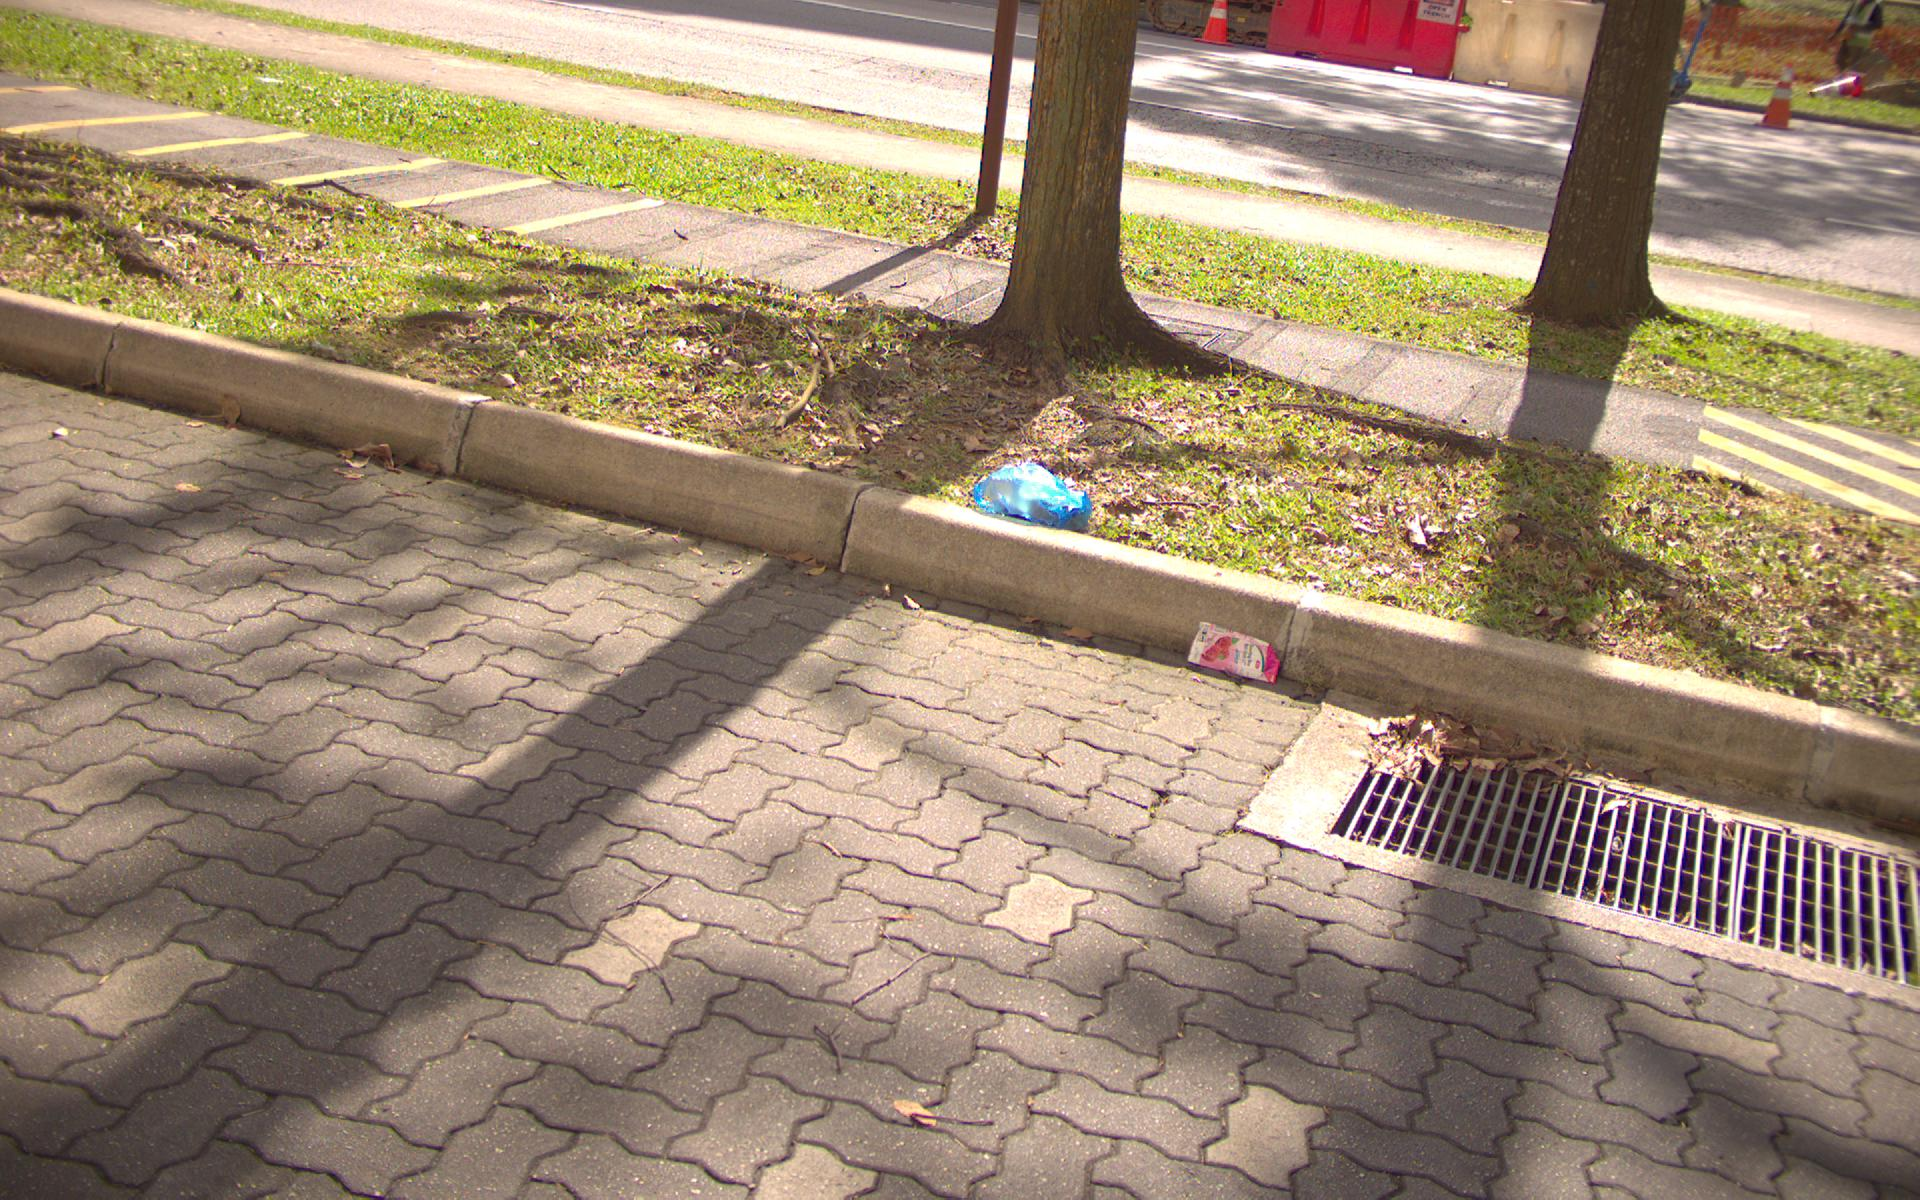curb_dic_medium: (1261, 731, 1920, 986), (452, 247, 775, 390)
road_turf_low: (1514, 469, 1879, 668), (991, 373, 1371, 549), (35, 166, 286, 312)
